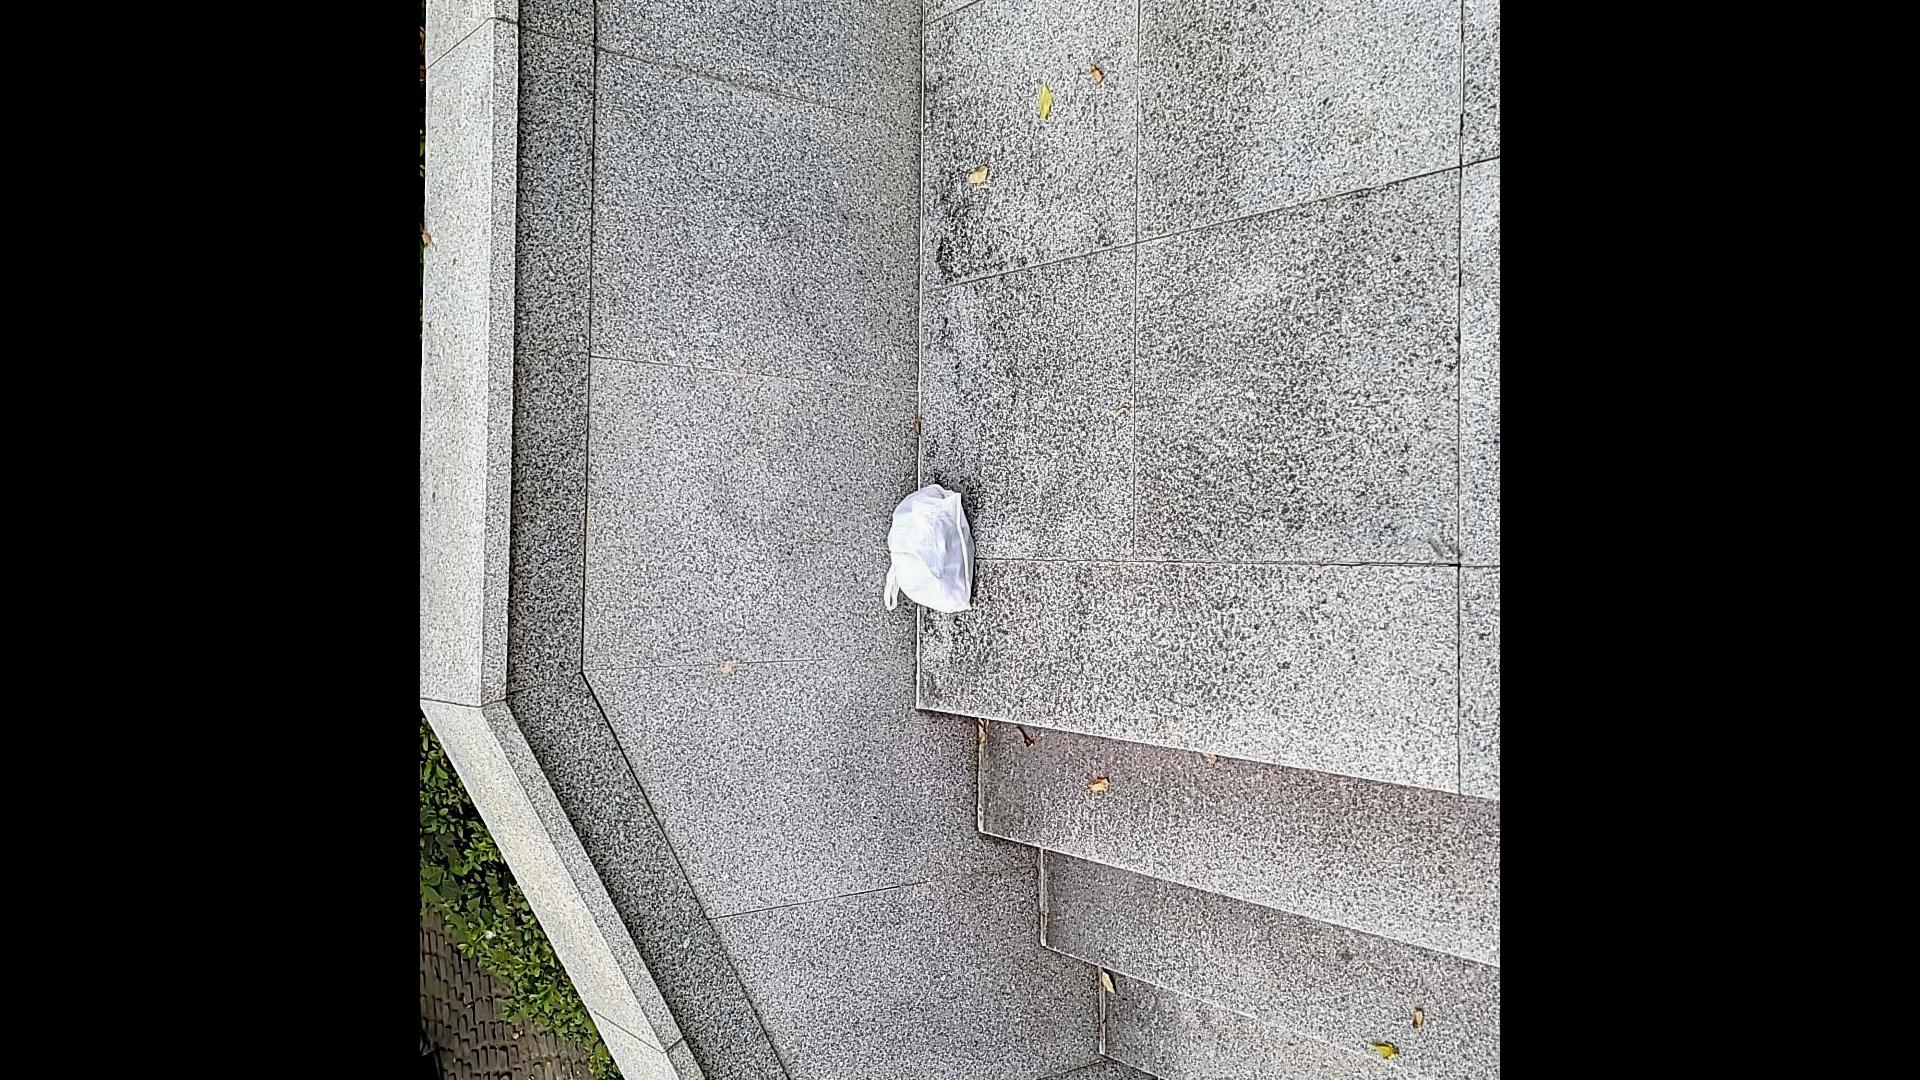white_bag: (878, 473, 986, 636)
